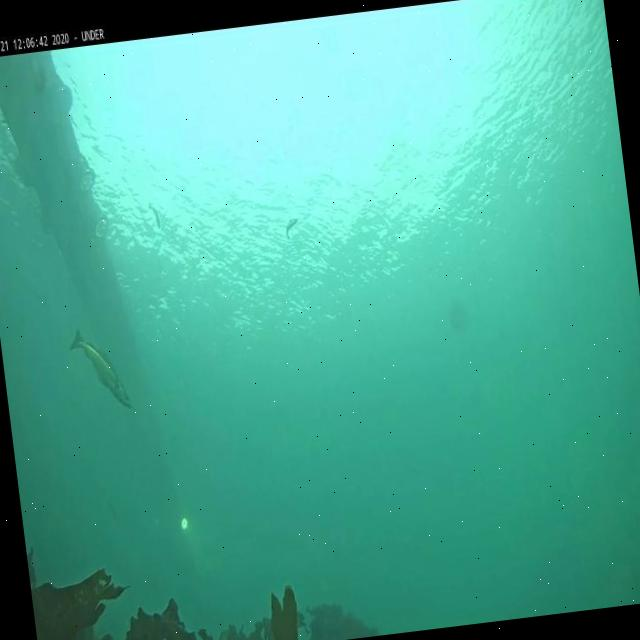fish: (68, 325, 134, 414), (282, 217, 301, 244), (146, 201, 162, 230)
